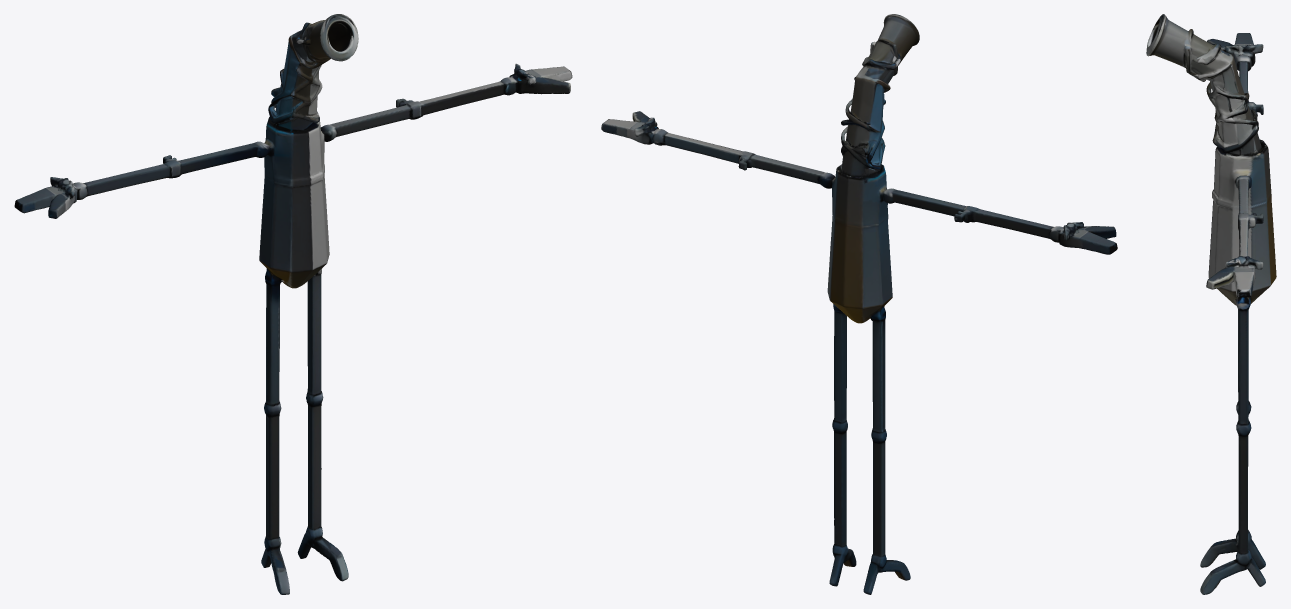
File: tripo_convert_64fa77dd-fe6d-481f-86a1-fbdfa9a46926.fbx
3 renders of one model, left to right at view 1: azimuth 30°, elevation 25°; view 2: azimuth 150°, elevation 25°; view 3: azimuth 270°, elevation 25°, orthographic. The views are drawn at different scales.
Visible parts, largest first — view 1: tripo_node_64fa77dd; view 2: tripo_node_64fa77dd; view 3: tripo_node_64fa77dd.
Part boxes in pixels (x1,y1,x2,y2): tripo_node_64fa77dd: [14, 14, 572, 594]; tripo_node_64fa77dd: [601, 14, 1117, 594]; tripo_node_64fa77dd: [1146, 14, 1276, 594].
Bounding box in the file's own units: 98.23 × 20.91 × 100.
1 material, 1 textured.
